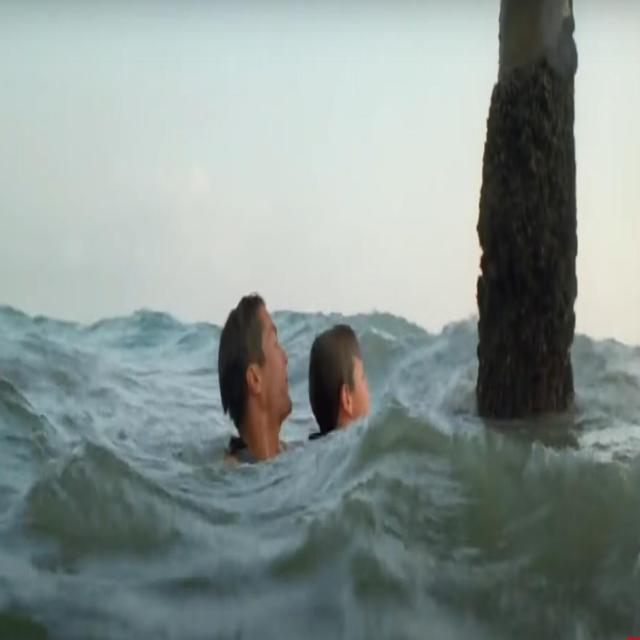Out of Water: (216, 280, 294, 457), (308, 319, 372, 438)
